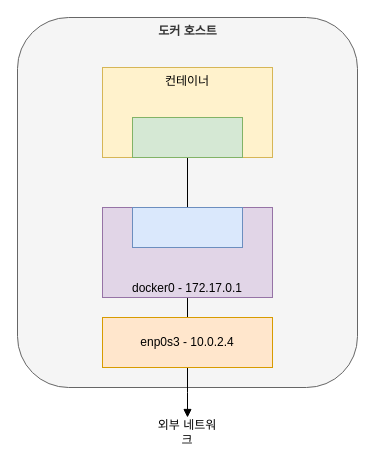
Image size: 375x465. Some labels were removed from this diagram. Here are the shapes that lost their labels. From the top down, the centre of each, then its label:
At (x=187, y=137): "eth0 - 172.17.0.2".
At (x=187, y=227): "vethXXXX".
